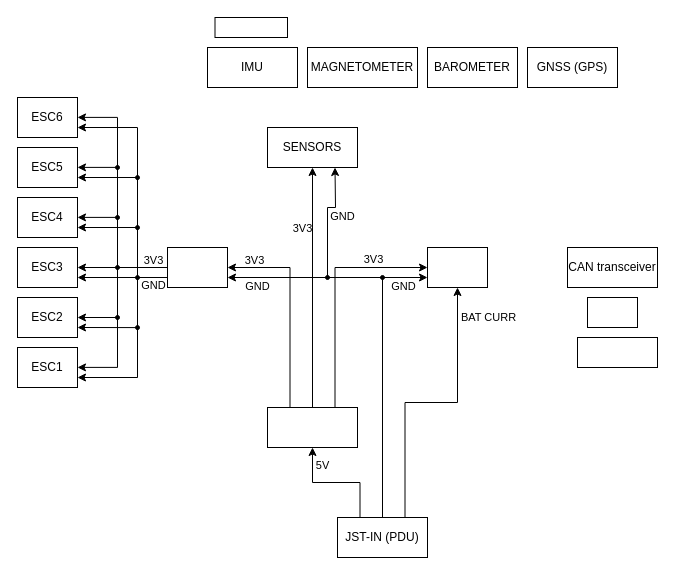
Some shapes in this 675 by 575 pixel diagram are drawn without their labels. The shapes that lost their labels are listed below. From the top down, each one's box as (x1, y1, x2, y2) in pixels, then its label:
(214, 16, 288, 38): Maybe 2nd IMU
(166, 246, 228, 288): ESCs
(426, 246, 488, 288): MCU
(586, 296, 638, 328): USB
(576, 336, 658, 368): Memory
(266, 406, 358, 448): BUCK 3V3 TPS62132
